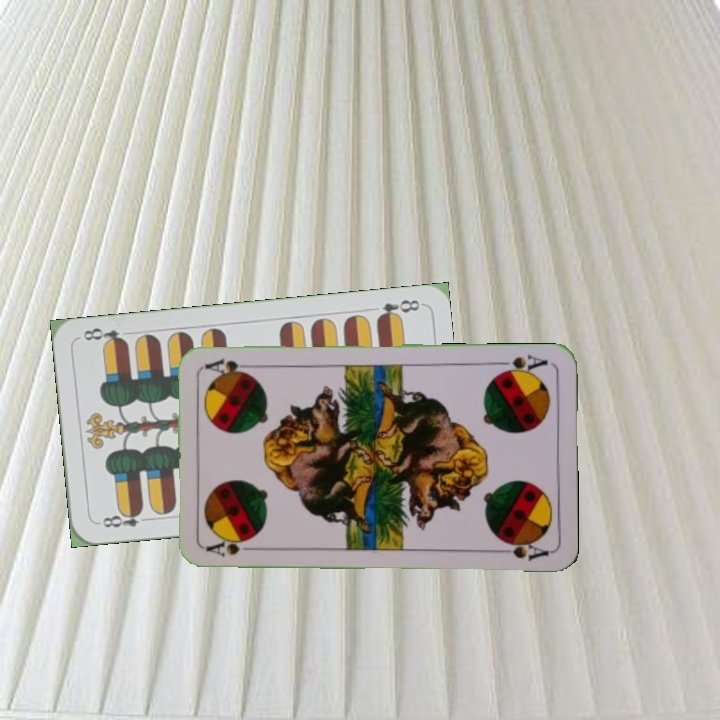E8: (94, 505, 153, 531), (373, 295, 423, 323)
SA: (492, 350, 550, 377), (203, 537, 262, 560)
